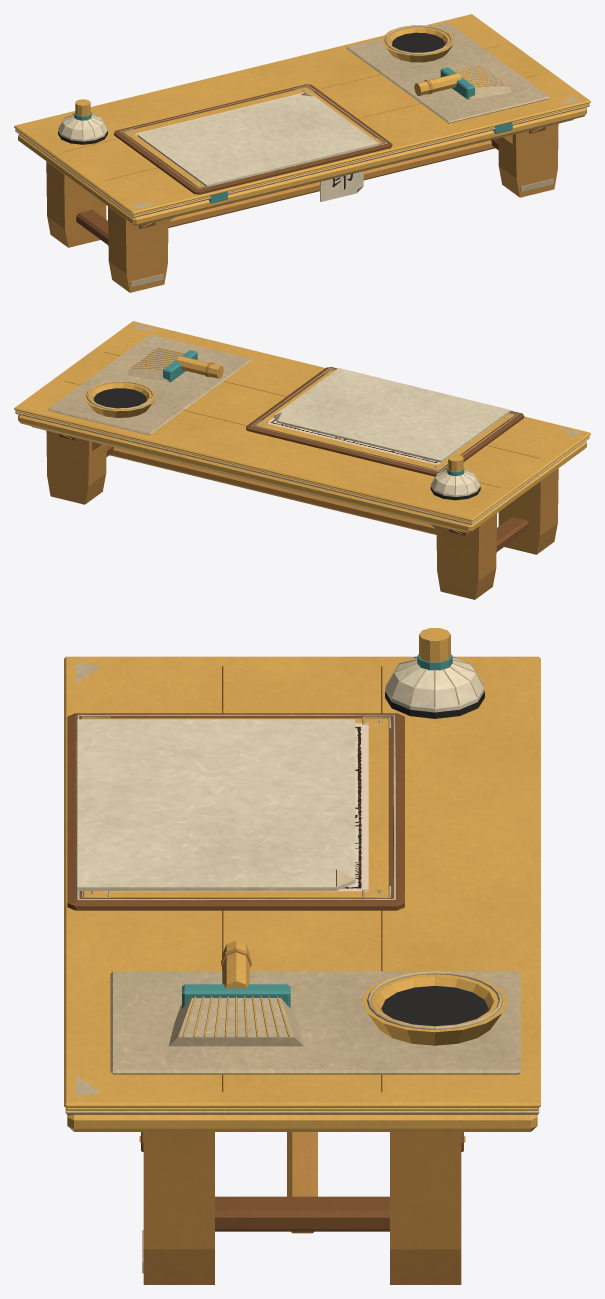
File: station_print.glb
3 renders of one model, top to bottom at view 1: azimuth 30°, elevation 25°; view 2: azimuth 150°, elevation 25°; view 3: azimuth 270°, elevation 25°, orthographic. The views are drawn at different scales.
Parts seen in each view (by area): view 1: station_print__tabletop, adapt_print_dry_sheet__paper_dry__paper_body, station_print__tool_tray, station_print__tabletop__core, station_print__tapered_leg, station_print__tapered_leg.002, v01_print_block__tool_print_block__block, station_print__tapered_leg.001, station_print__low_cross_stretcher, v01_print_block__tool_print_block__carved_face, station_print__tabletop__paper_lamination, v01_print_ink_dish__tool_ink_dish__faceted_dish (+11 smaller); view 2: station_print__tabletop, adapt_print_dry_sheet__paper_dry__paper_body, station_print__tool_tray, station_print__tabletop__core, station_print__tapered_leg.001, station_print__tapered_leg.003, station_print__low_cross_stretcher, station_print__tapered_leg, v01_print_block__tool_print_block__block, v01_print_block__tool_print_block__carved_face, station_print__tabletop__paper_lamination, v01_print_ink_dish__tool_ink_dish__faceted_dish (+11 smaller); view 3: station_print__tabletop, adapt_print_dry_sheet__paper_dry__paper_body, station_print__tool_tray, station_print__tapered_leg.002, station_print__tapered_leg.003, v01_print_block__tool_print_block__block, station_print__tabletop__core, v01_print_block__tool_print_block__carved_face, station_print__stretcher_y.001, v01_print_brush__tool_print_brush__bound_paper_bristles, v01_print_ink_dish__tool_ink_dish__faceted_dish, v01_print_rubbing_pad__tool_rubbing_pad__folded_paper_wrap (+11 smaller).
Boxes of the visible parts, box(x1,y1,x2,y2) form: station_print__tabletop: box(14, 14, 590, 214); adapt_print_dry_sheet__paper_dry__paper_body: box(137, 94, 378, 186); station_print__tool_tray: box(346, 22, 550, 123); station_print__tabletop__core: box(18, 107, 586, 225); station_print__tapered_leg: box(108, 206, 168, 292); station_print__tapered_leg.002: box(498, 123, 558, 197); v01_print_block__tool_print_block__block: box(114, 84, 392, 194); station_print__tapered_leg.001: box(46, 161, 106, 247); station_print__low_cross_stretcher: box(168, 140, 495, 227); v01_print_block__tool_print_block__carved_face: box(124, 87, 382, 187); station_print__tabletop__paper_lamination: box(15, 104, 589, 217); v01_print_ink_dish__tool_ink_dish__faceted_dish: box(382, 25, 454, 62); station_print__tabletop: box(14, 321, 590, 521); adapt_print_dry_sheet__paper_dry__paper_body: box(273, 368, 510, 462); station_print__tool_tray: box(48, 334, 252, 435); station_print__tabletop__core: box(18, 414, 586, 532); station_print__tapered_leg.001: box(436, 513, 496, 599); station_print__tapered_leg.003: box(46, 430, 106, 504); station_print__low_cross_stretcher: box(109, 447, 436, 534); station_print__tapered_leg: box(498, 468, 558, 554); v01_print_block__tool_print_block__block: box(246, 367, 524, 476); v01_print_block__tool_print_block__carved_face: box(255, 370, 513, 470); station_print__tabletop__paper_lamination: box(15, 411, 589, 524); v01_print_ink_dish__tool_ink_dish__faceted_dish: box(84, 380, 156, 417); station_print__tabletop: box(64, 656, 540, 1107); adapt_print_dry_sheet__paper_dry__paper_body: box(77, 719, 355, 890); station_print__tool_tray: box(110, 971, 520, 1074); station_print__tapered_leg.002: box(143, 1132, 214, 1284); station_print__tapered_leg.003: box(390, 1132, 461, 1284); v01_print_block__tool_print_block__block: box(67, 713, 404, 910); station_print__tabletop__core: box(67, 1114, 537, 1131); v01_print_block__tool_print_block__carved_face: box(84, 718, 388, 897); station_print__stretcher_y.001: box(215, 1196, 389, 1231); v01_print_brush__tool_print_brush__bound_paper_bristles: box(168, 998, 303, 1046); v01_print_ink_dish__tool_ink_dish__faceted_dish: box(362, 970, 507, 1045); v01_print_rubbing_pad__tool_rubbing_pad__folded_paper_wrap: box(385, 657, 484, 712).
Size of the model in its own units: 1.6 by 0.4356 by 0.72.
Materials: 25 (22 with a texture image).
